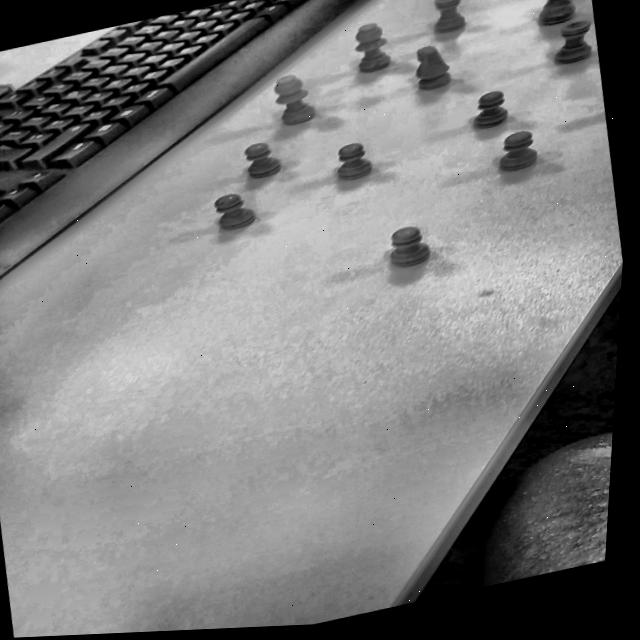white-bishop: (253, 67, 325, 137), (339, 17, 402, 81)
white-king: (526, 0, 591, 3)
white-knight: (397, 40, 459, 101)
white-pawn: (360, 215, 444, 288), (453, 84, 526, 139), (485, 125, 552, 181), (199, 188, 262, 241), (230, 133, 288, 185), (326, 138, 379, 187)
white-queen: (517, 0, 593, 33)
white-rook: (535, 16, 602, 78), (416, 0, 479, 44)
